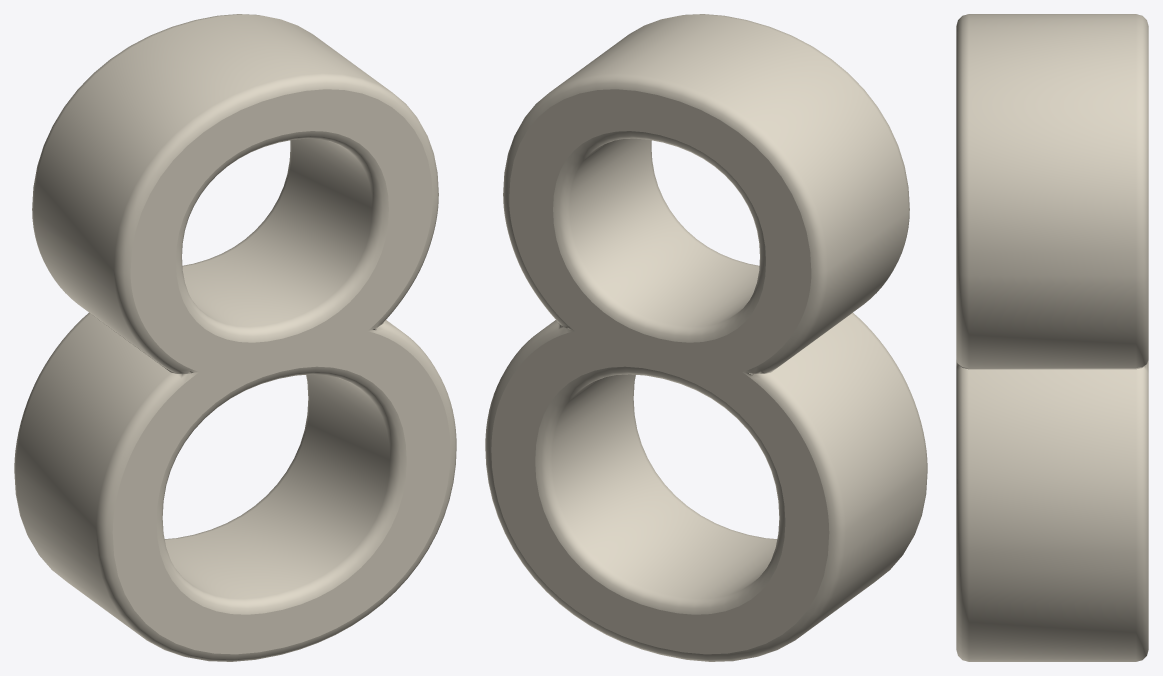
File: number_8.glb
3 views of the same model, side by side, from view 1: azimuth 30°, elevation 25°; view 2: azimuth 150°, elevation 25°; view 3: azimuth 270°, elevation 25° (orthographic). The views are drawn at different scales.
Parts seen in each view (by area): view 1: color_body; view 2: color_body; view 3: color_body.
Boxes of the visible parts, x1,y1,x2,y2 form: color_body: [14, 14, 456, 661]; color_body: [485, 14, 927, 661]; color_body: [956, 14, 1148, 661].
Size of the model in its own units: 0.543 by 0.8306 by 0.242.
